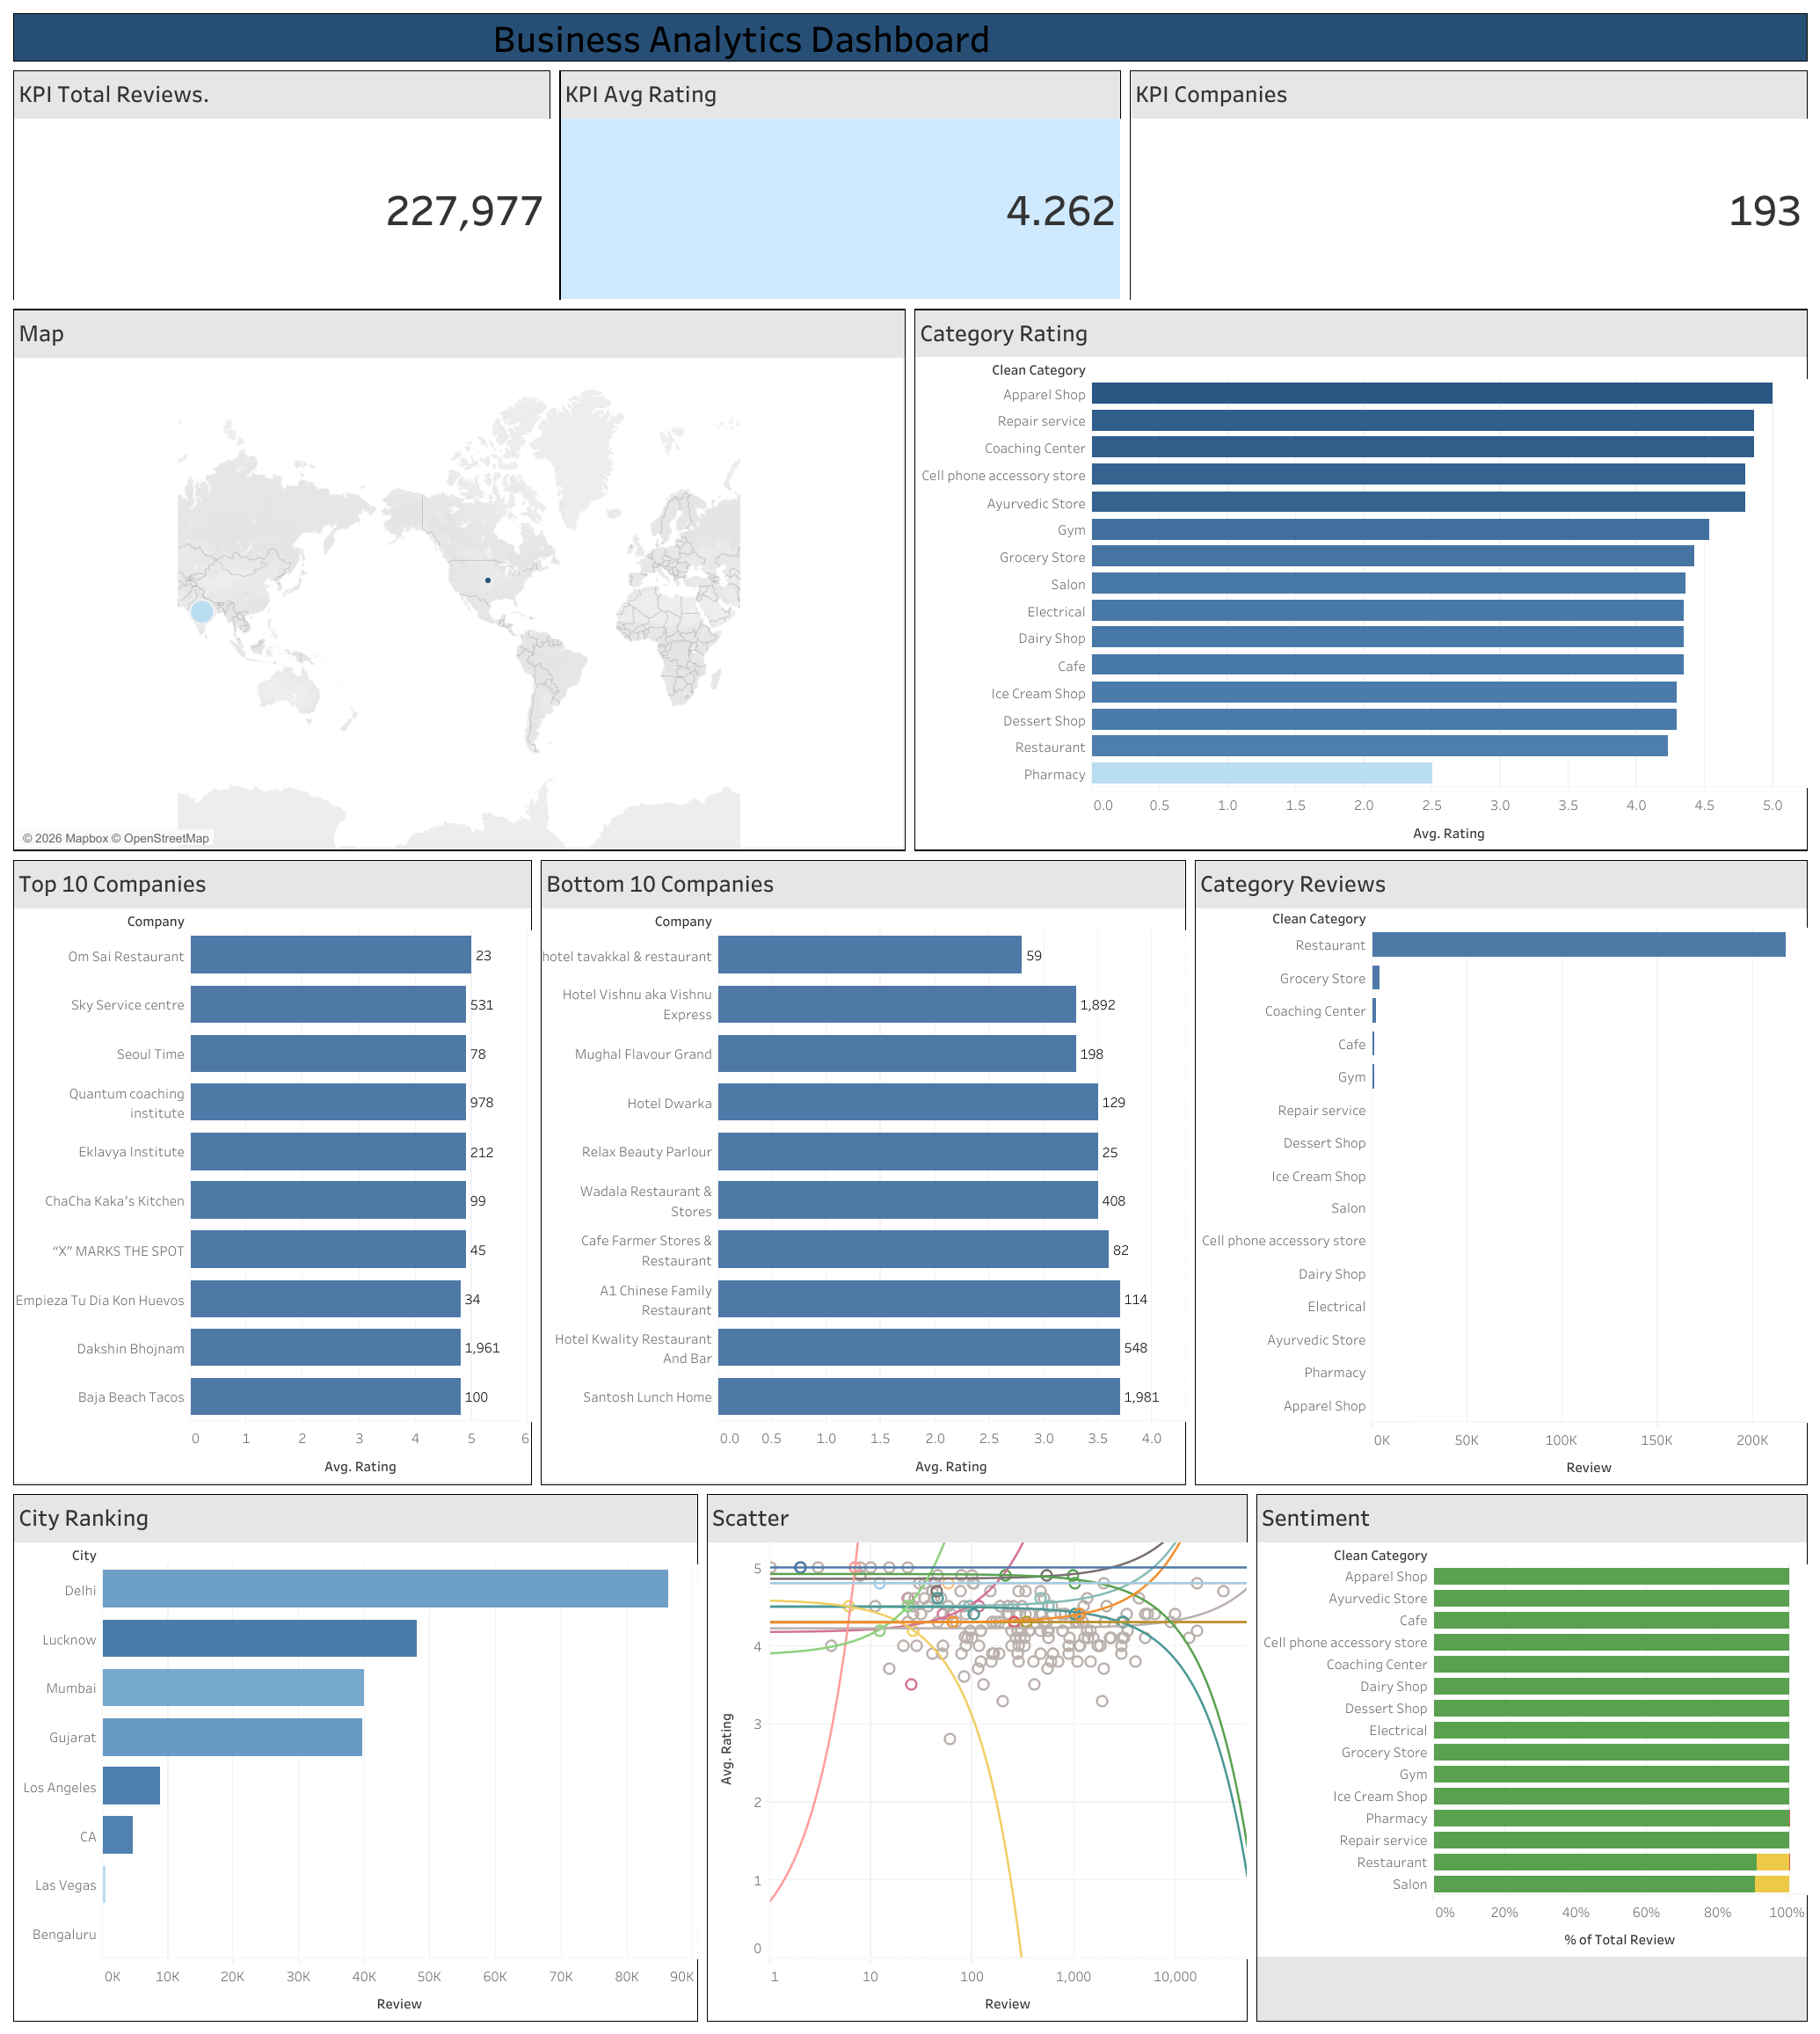

The dashboard page shown, as its layout file describes it:
{"tool":"tableau","page":{"name":"Dashboard 1","canvas":[1657,1851],"ordinal":0},"visuals":[{"type":"title","box":[8,8,1641,63]},{"type":"worksheet","title":"KPI Total Reviews.","mark":"Automatic","box":[8,71,497,215.4]},{"type":"worksheet","title":"KPI Avg Rating","mark":"Automatic","box":[505,71,519,215.4]},{"type":"worksheet","title":"KPI Companies","mark":"Automatic","box":[1024,71,625,215.4]},{"type":"worksheet","title":"Map","mark":"Circle","box":[8,286.4,820.4,498.3]},{"type":"worksheet","title":"Category Rating","mark":"Automatic","rows":["Clean_Category"],"cols":["Rating"],"box":[828.4,286.4,820.6,498.3]},{"type":"worksheet","title":"Top 10 Companies","mark":"Automatic","rows":["Company"],"cols":["Rating"],"box":[8,784.7,480,572.8]},{"type":"worksheet","title":"Bottom 10 Companies","mark":"Automatic","rows":["Company"],"cols":["Rating"],"box":[488,784.7,595,572.8]},{"type":"worksheet","title":"Category Reviews","mark":"Automatic","rows":["Clean_Category"],"cols":["Review"],"box":[1083,784.7,566,572.8]},{"type":"worksheet","title":"City Ranking","mark":"Automatic","rows":["City"],"cols":["Review"],"box":[8,1357.5,631,485.5]},{"type":"worksheet","title":"Scatter","mark":"Automatic","rows":["Rating"],"cols":["Review"],"box":[639,1357.5,500,485.5]},{"type":"worksheet","title":"Sentiment","mark":"Automatic","rows":["Clean_Category"],"box":[1139,1357.5,510,485.5]}]}

Visuals, with their boxes in screenshot pixels (x1, y1, x2, y2), scaled from the page's 1657x1851 canvas onto the 1820x2034 screenshot:
title: Rect(9, 9, 1811, 78)
"KPI Total Reviews." worksheet: Rect(9, 78, 555, 315)
"KPI Avg Rating" worksheet: Rect(555, 78, 1125, 315)
"KPI Companies" worksheet: Rect(1125, 78, 1811, 315)
"Map" worksheet (Circle marks): Rect(9, 315, 910, 863)
"Category Rating" worksheet: Rect(910, 315, 1811, 863)
"Top 10 Companies" worksheet: Rect(9, 863, 536, 1491)
"Bottom 10 Companies" worksheet: Rect(536, 863, 1190, 1491)
"Category Reviews" worksheet: Rect(1190, 863, 1811, 1491)
"City Ranking" worksheet: Rect(9, 1491, 702, 2025)
"Scatter" worksheet: Rect(702, 1491, 1251, 2025)
"Sentiment" worksheet: Rect(1251, 1491, 1811, 2025)
